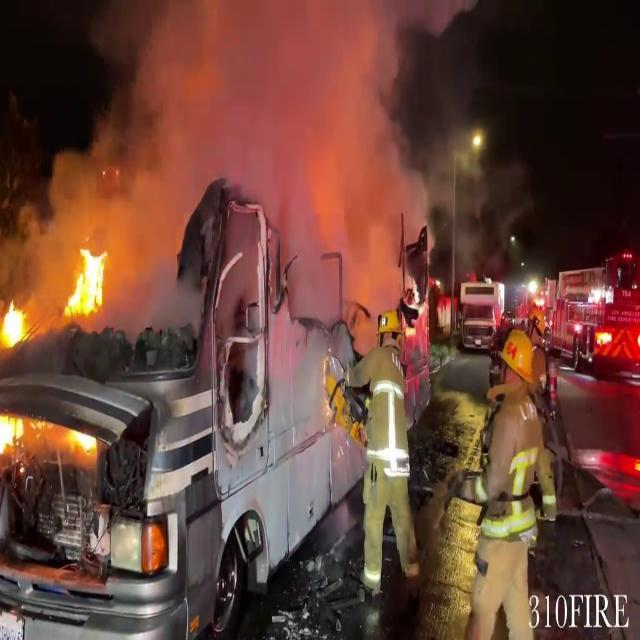Fire: (1, 240, 115, 380), (60, 242, 113, 321), (0, 408, 32, 466), (0, 299, 31, 349)
Smoke: (5, 0, 478, 301)
